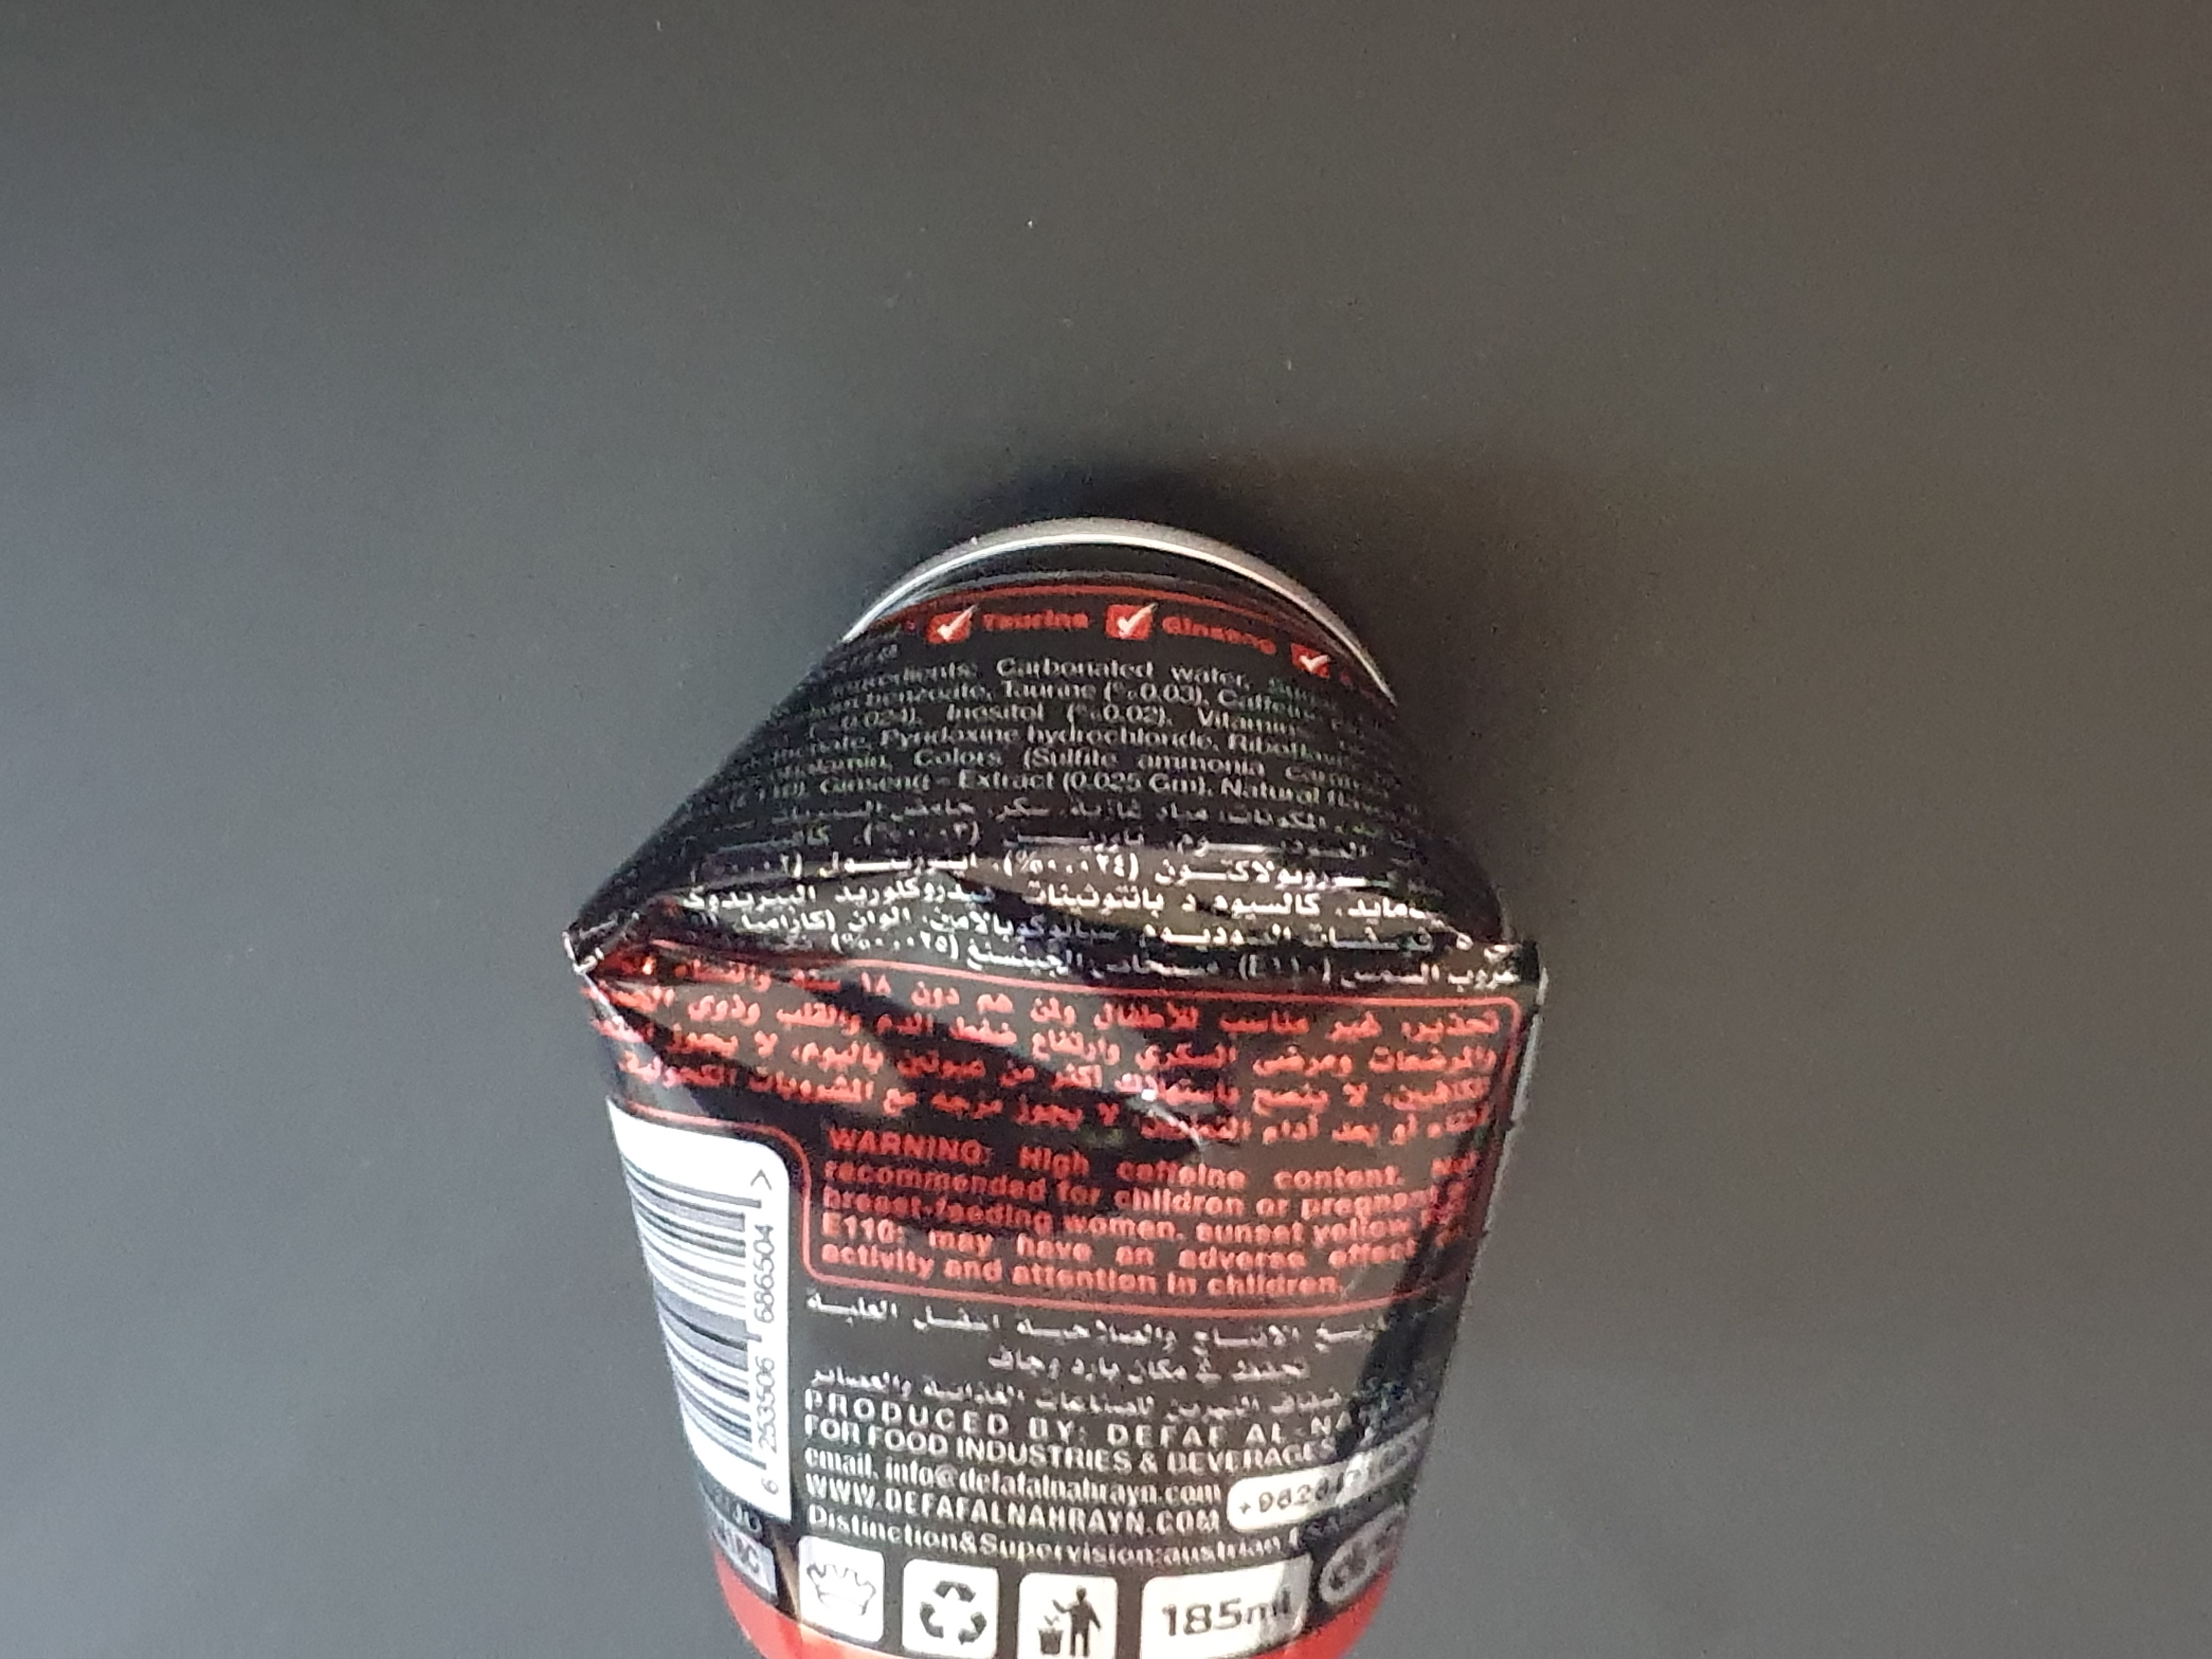metal: (536, 437, 1580, 1659)
